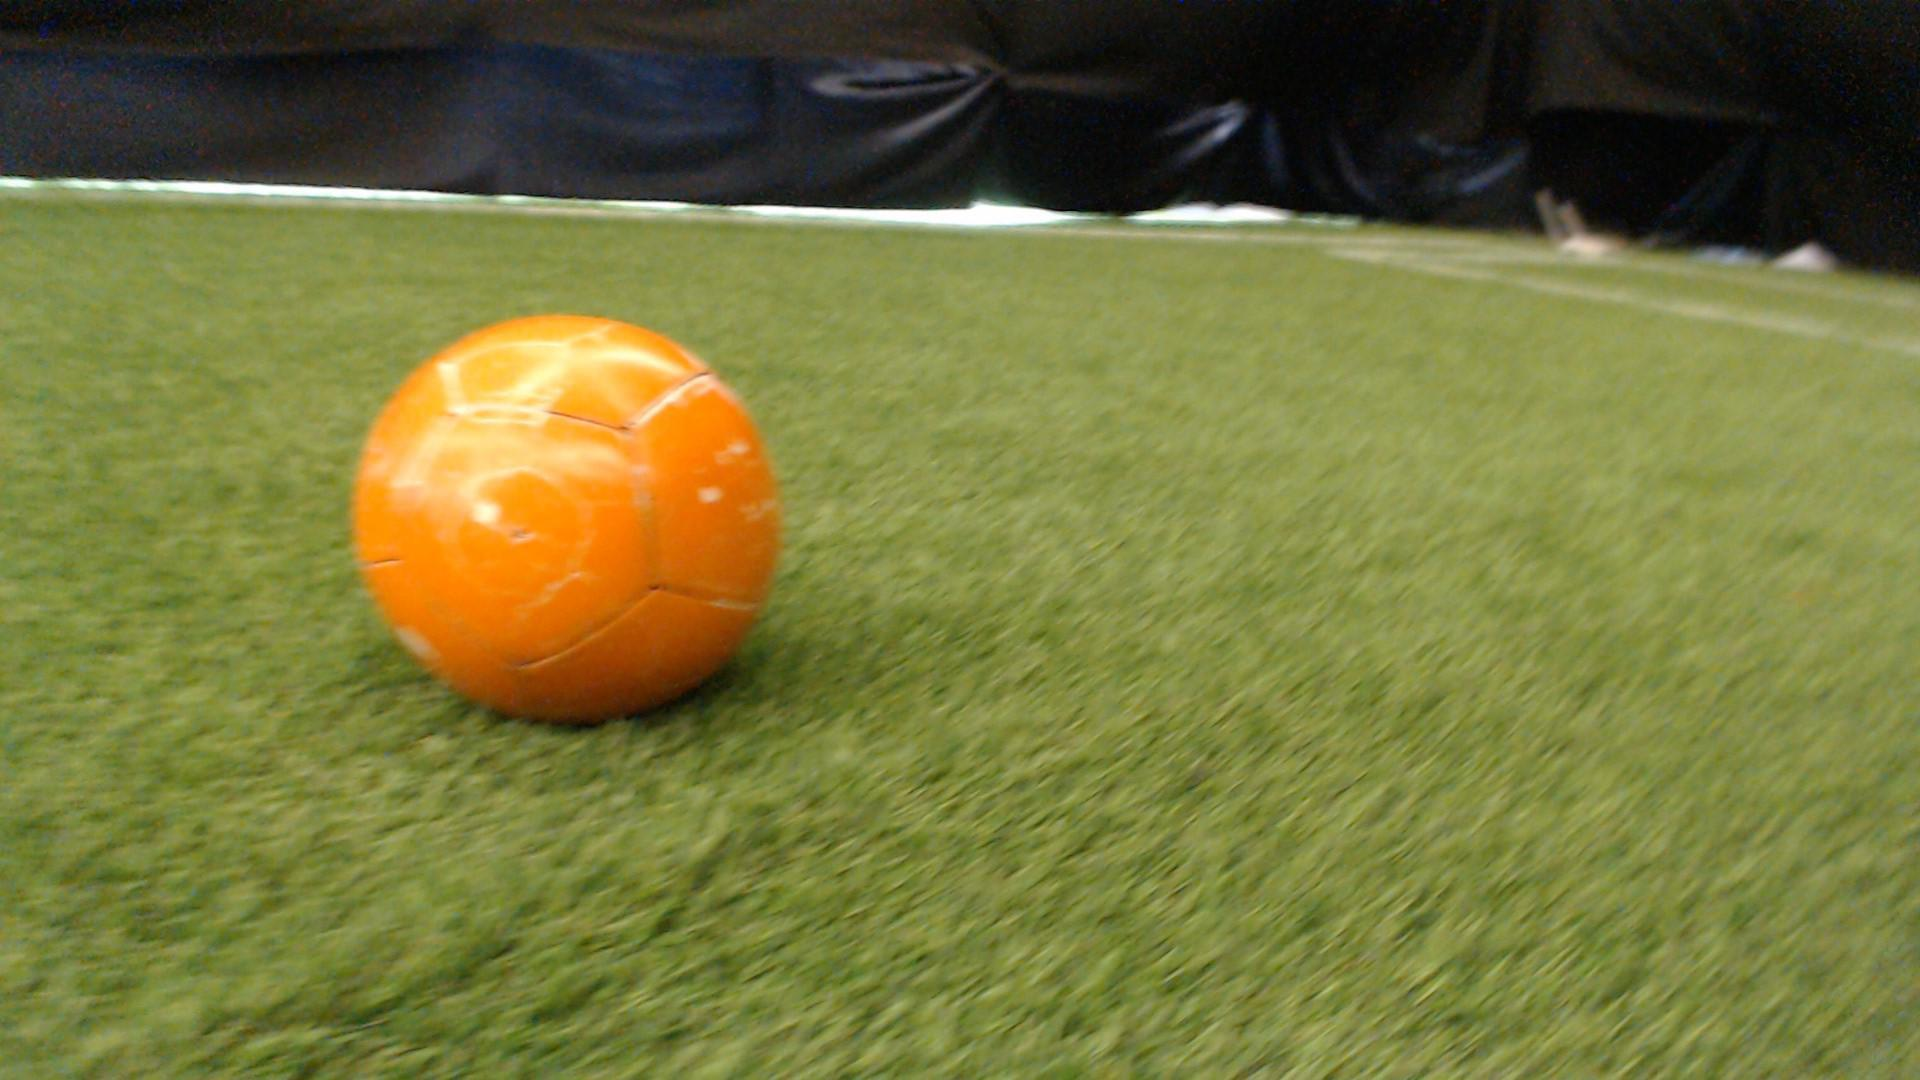bola: (335, 306, 806, 741)
